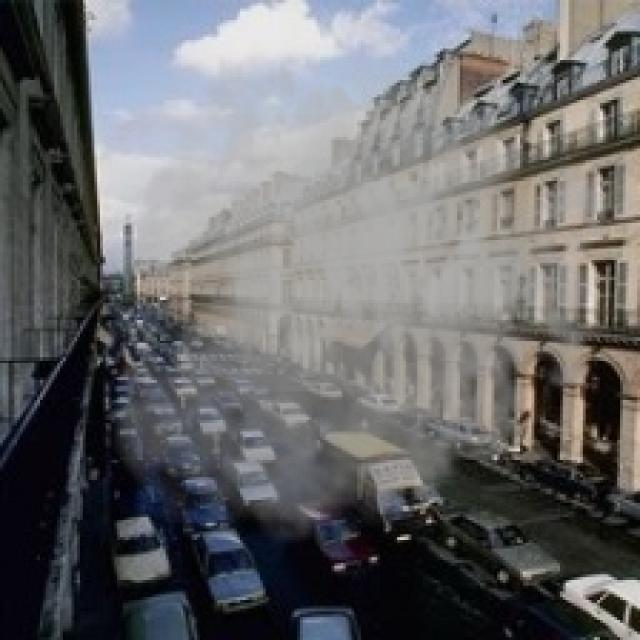smoke: (100, 20, 626, 560)
